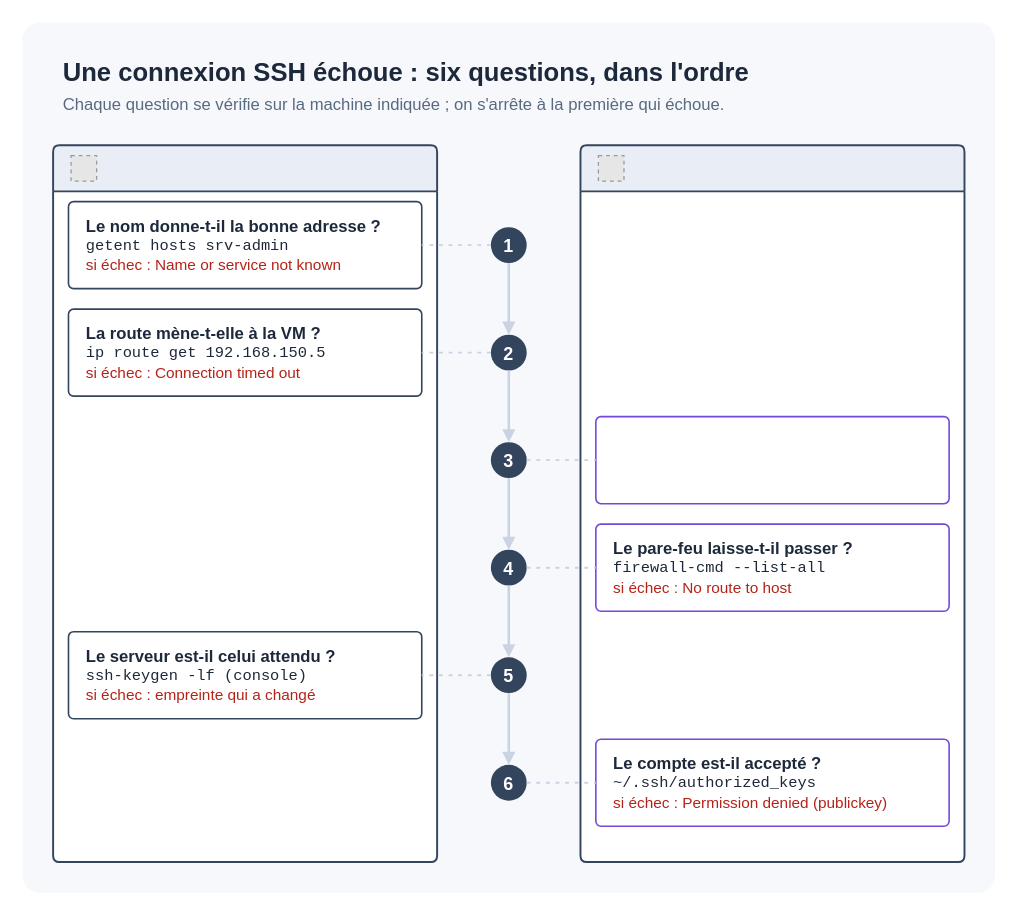
Some shapes in this 1016 by 914 pixel diagram are drawn without their labels. Grey dashed boxes stand in for pictures. The box of each missing label's shape, as (x1, y1, x2, y2) in pixels:
Le service écoute-t-il sur le port 22 ? ss -lnt si échec : Connection refused: (594, 415, 949, 504)
Poste Fedora le client: (52, 144, 438, 862)
VM Rocky le serveur, depuis sa console: (579, 144, 965, 862)
